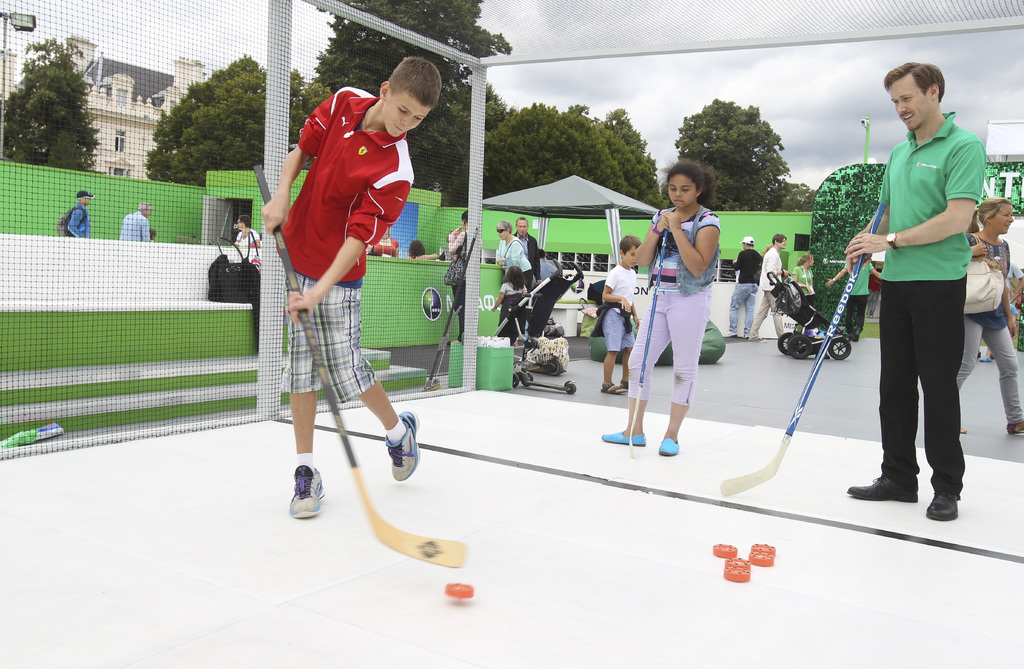Person: (259, 54, 442, 518), (845, 61, 986, 522), (598, 164, 713, 456)
